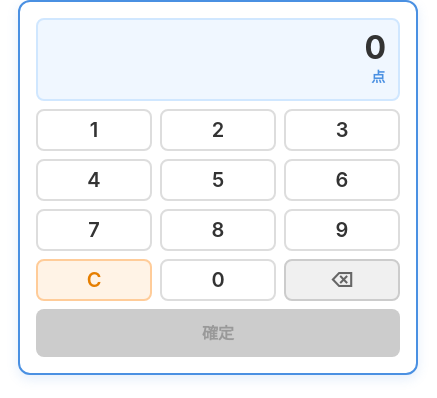
Test: NumPad › 数字入力 › 数字ボタンをクリックすると入力値が更新される
Click the button "1" at [94, 130], box [36,109,152,151]
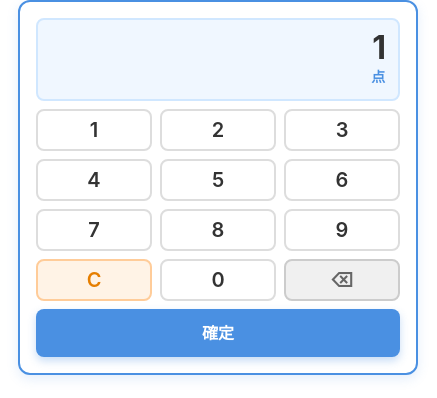
Result: the text with class "num-pad__input-value" reads "1" at [372,28,386,67]
Click the button "2" at [218, 130], box [160,109,276,151]
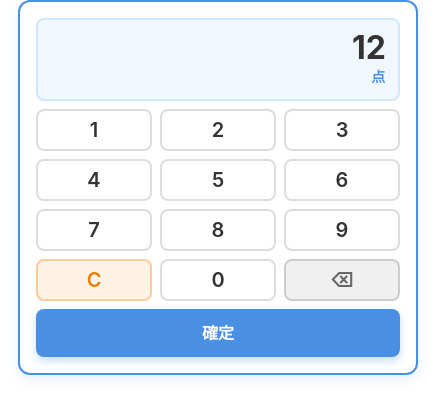
Result: the text with class "num-pad__input-value" reads "12" at [352,28,386,67]
Click the button "3" at [342, 130], box [284,109,400,151]
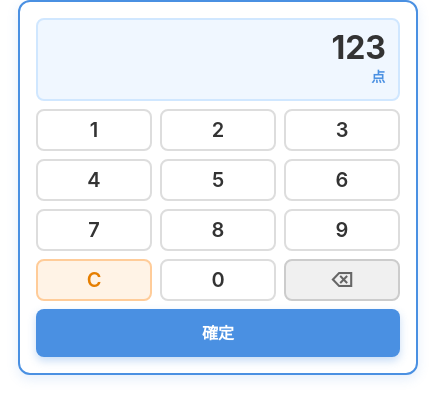
Result: the text with class "num-pad__input-value" reads "123" at [331,28,386,67]
